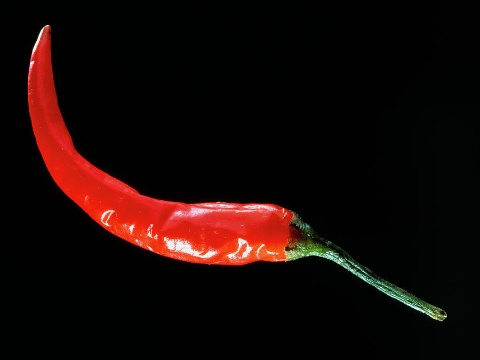Chilli: (16, 11, 450, 335)
